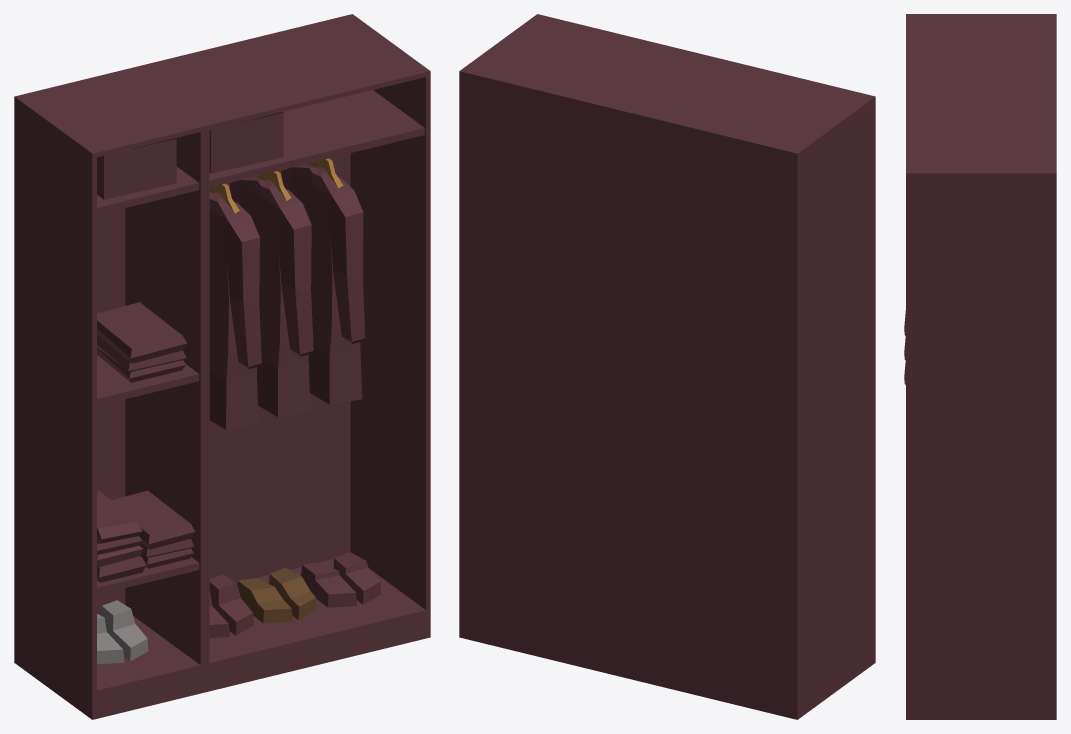
The model's file is closet-wardrobe-open.fbx.
The picture shows the model from 3 angles, left to right: view 1: azimuth 30°, elevation 25°; view 2: azimuth 150°, elevation 25°; view 3: azimuth 270°, elevation 25°; orthographic projection. The views are drawn at different scales.
Parts seen in each view (by area): view 1: closet-wardrobe-open; view 2: closet-wardrobe-open; view 3: closet-wardrobe-open.
Boxes of the visible parts, x1,y1,x2,y2 form: closet-wardrobe-open: (14, 14, 430, 719); closet-wardrobe-open: (459, 14, 875, 719); closet-wardrobe-open: (904, 14, 1056, 719).
Size of the model in its own units: 1.5 by 2.4 by 0.6074.
